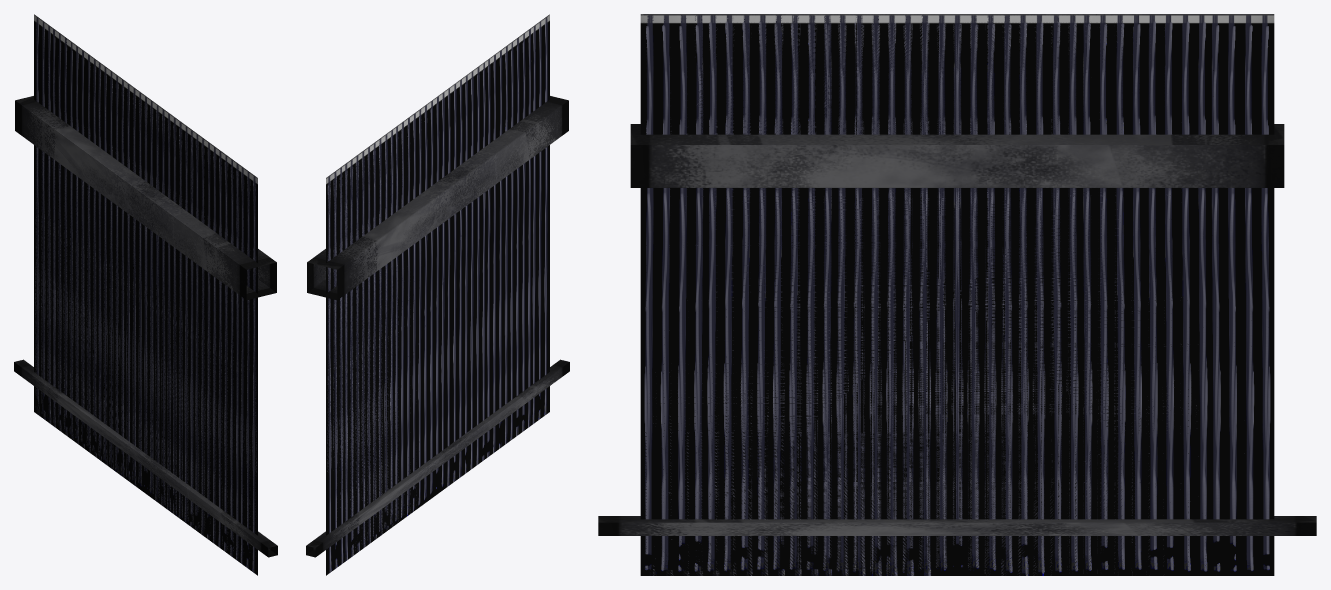
File: obstacle_doorway_b.fbx
3 views of the same model, side by side, from view 1: azimuth 30°, elevation 25°; view 2: azimuth 150°, elevation 25°; view 3: azimuth 270°, elevation 25° (orthographic). The views are drawn at different scales.
Parts seen in each view (by area): view 1: obstacle_doorway_b; view 2: obstacle_doorway_b; view 3: obstacle_doorway_b.
Boxes of the visible parts, bbox=[...] form: obstacle_doorway_b: bbox=[14, 14, 277, 575]; obstacle_doorway_b: bbox=[306, 14, 569, 575]; obstacle_doorway_b: bbox=[598, 14, 1316, 575].
Bounding box in the file's own units: 0.7525 × 9.41 × 10.9.
